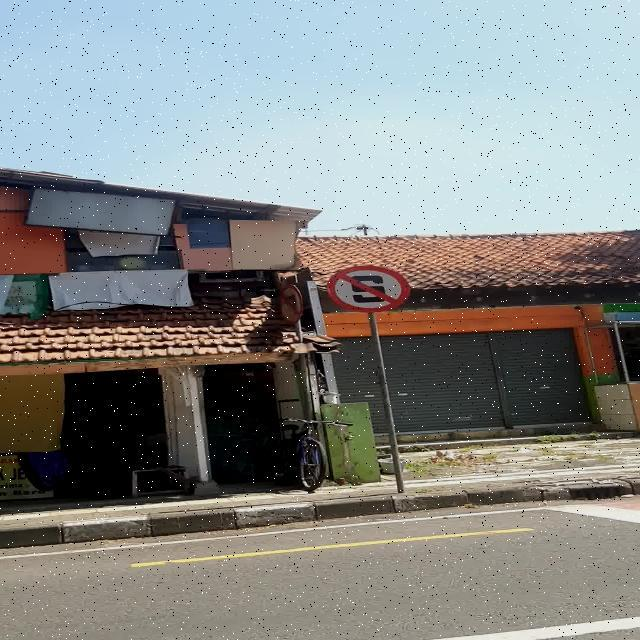Dilarang Berhenti: (327, 266, 410, 312)
